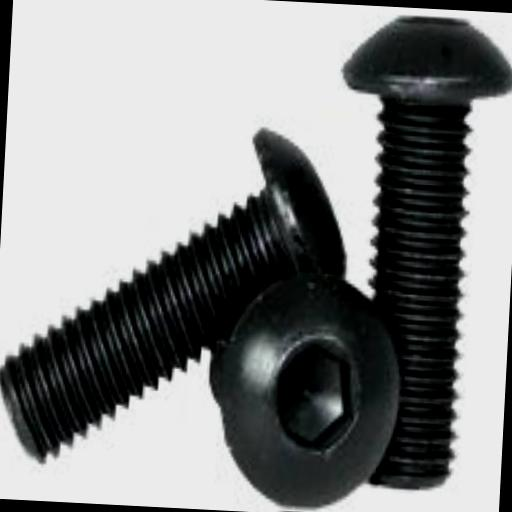Hex-Allen: (212, 269, 407, 512)
